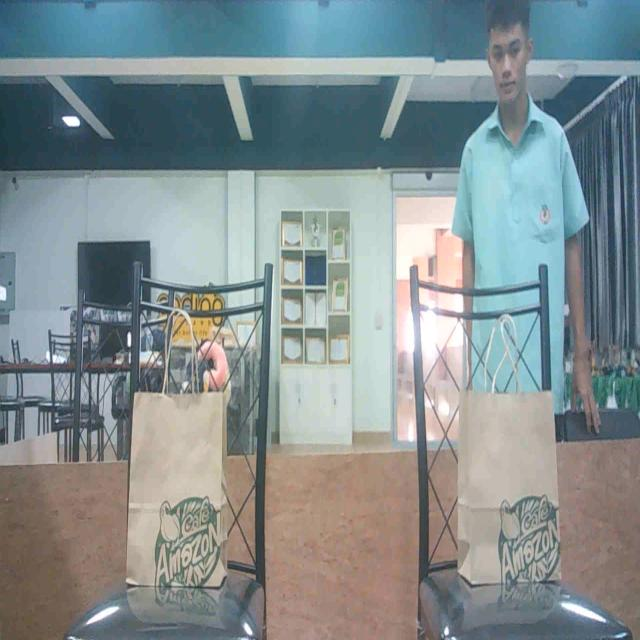bag: (448, 378, 564, 591), (135, 386, 225, 585)
